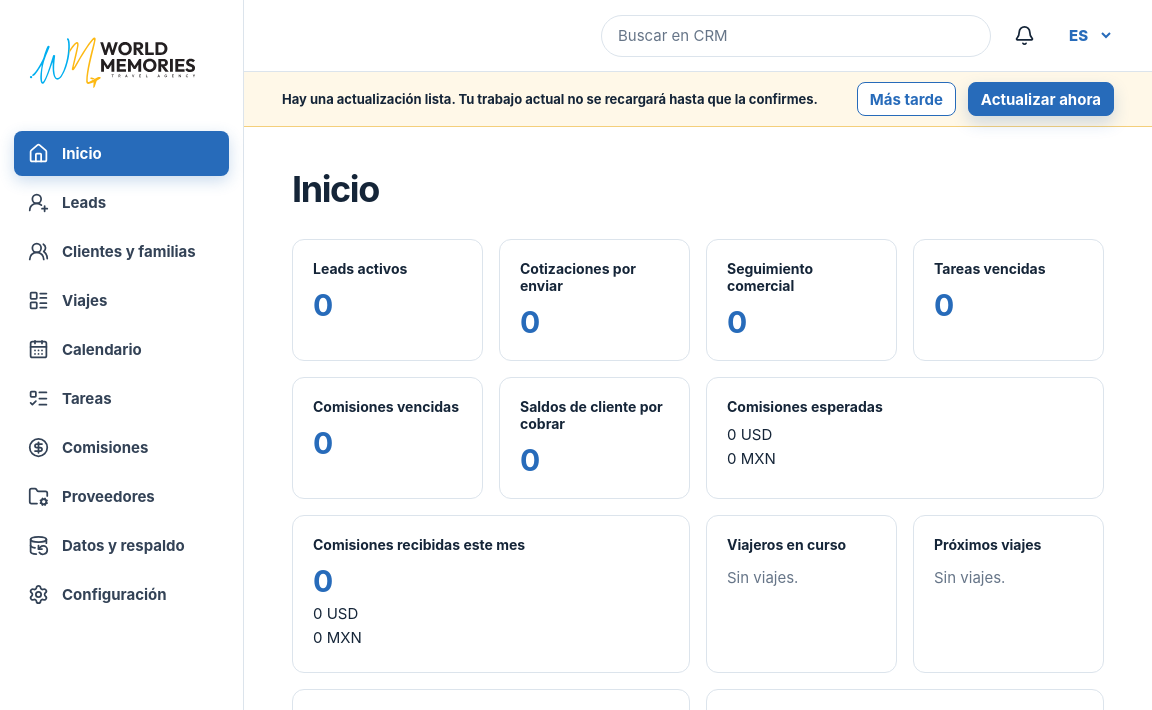
Scenario: createUpdateController › translates the update prompt and shared navigation when English is selected
Step 1. Select "EN" in the dropdown named "Idioma" → (1086, 36), box [1057,17,1114,54]
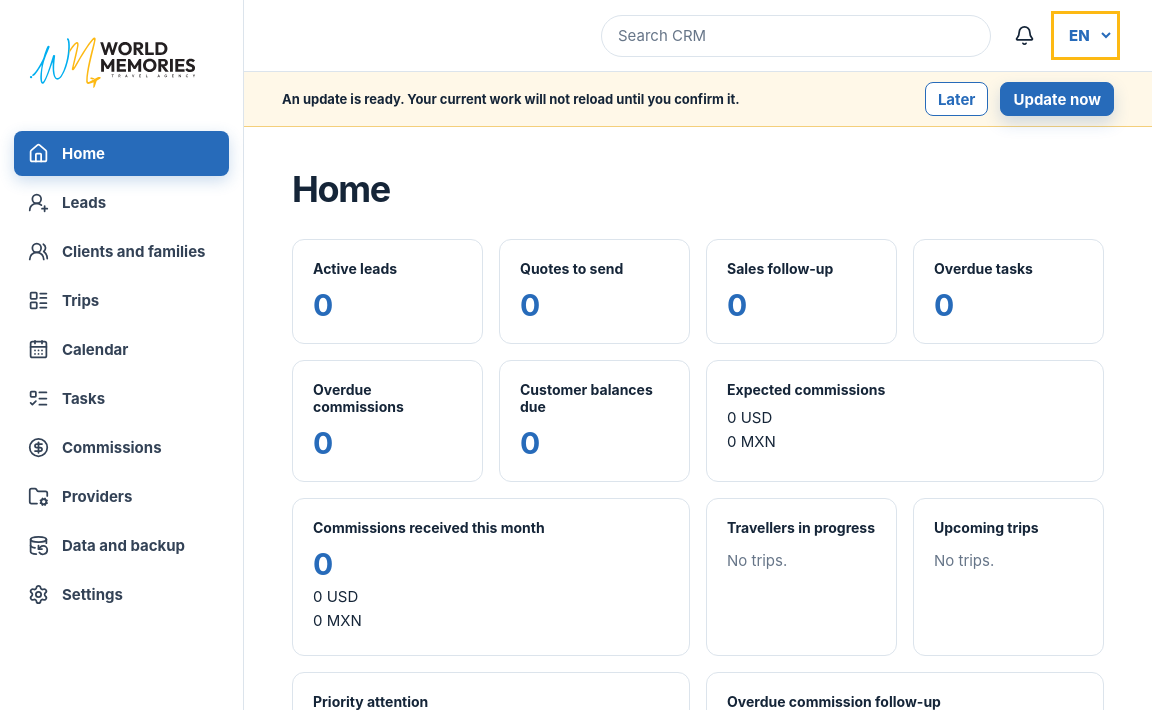
Expected: the navigation bar named "Main navigation" is shown, [14,131,229,617]
Expected: the text "An update is ready. Your current work will not reload until you confirm it." is shown, [282,91,740,107]
Expected: the button "Later" is shown, [925,82,988,116]
